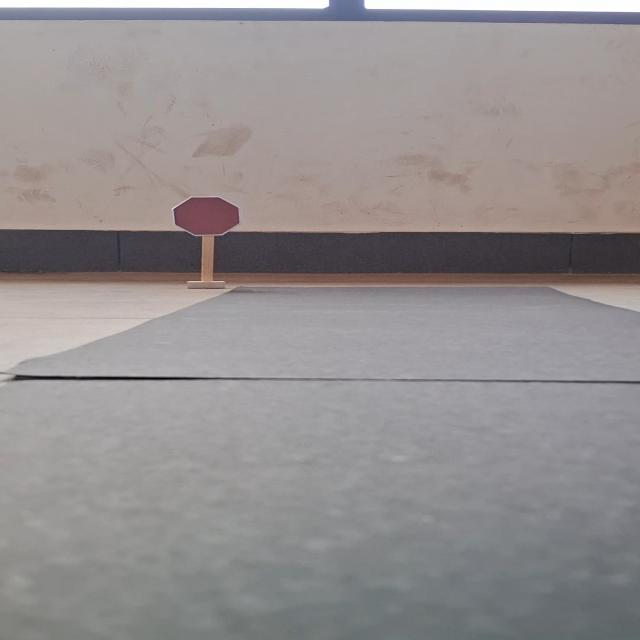Stop: (172, 196, 240, 237)
